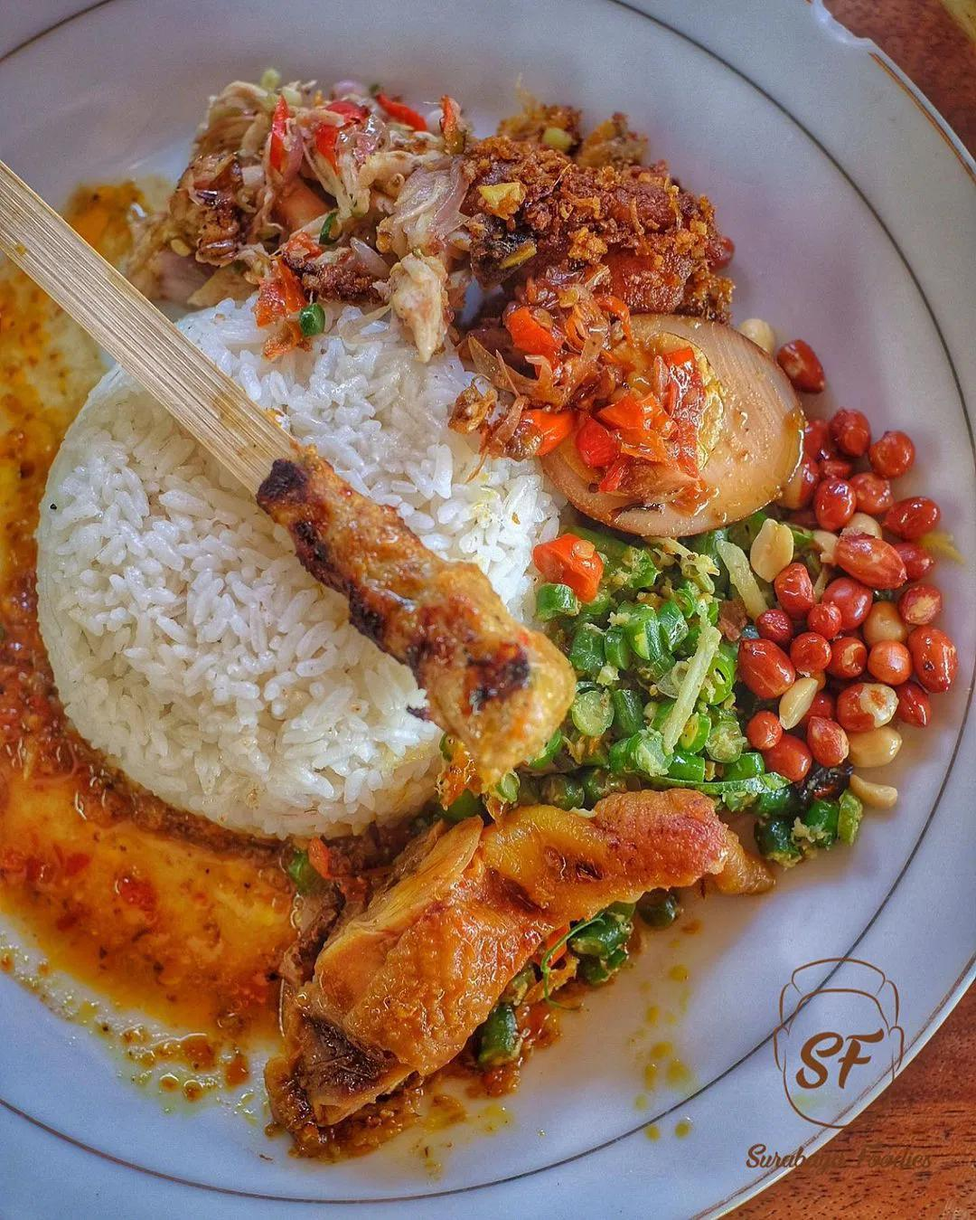buah_sayur_lainnya: (216, 108, 657, 262), (594, 559, 711, 753)
daging: (325, 875, 542, 1047), (431, 605, 526, 729)
kacang_legume: (760, 530, 927, 738)
makanan_berpati: (93, 495, 277, 709)
